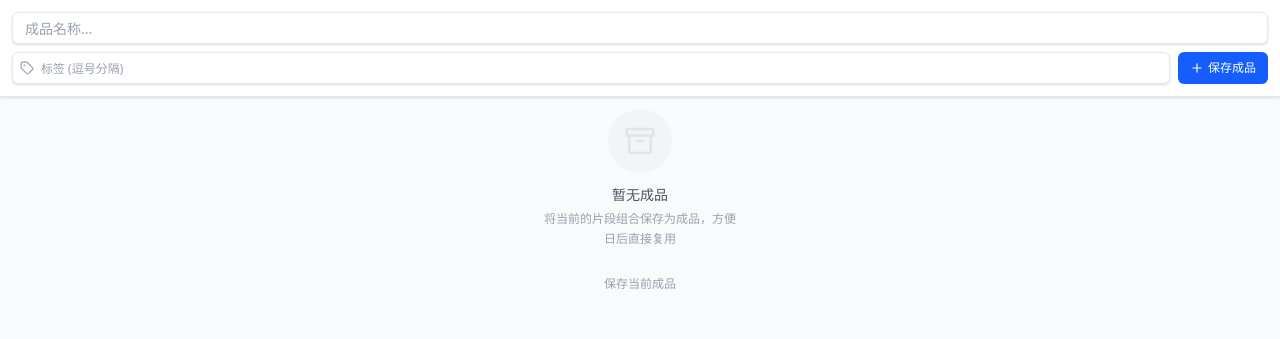
SavedPromptsPanel › prevents renaming to a duplicate name and shows error
The image size is (1280, 339).
Step 1. Type "Prompt A" into the field with placeholder "成品名称..." → point(640, 28), box [12,12,1268,44]
Step 2. Click the button with test id "saved-prompts-save" → point(1223, 68), box [1178,52,1268,84]
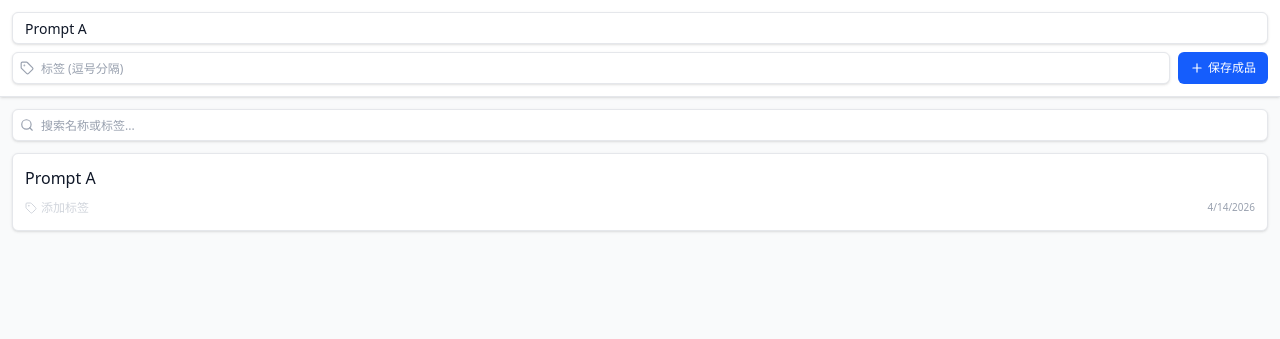
Step 3. Replace the text in the field with placeholder "成品名称..." with "Prompt B" → point(640, 28), box [12,12,1268,44]
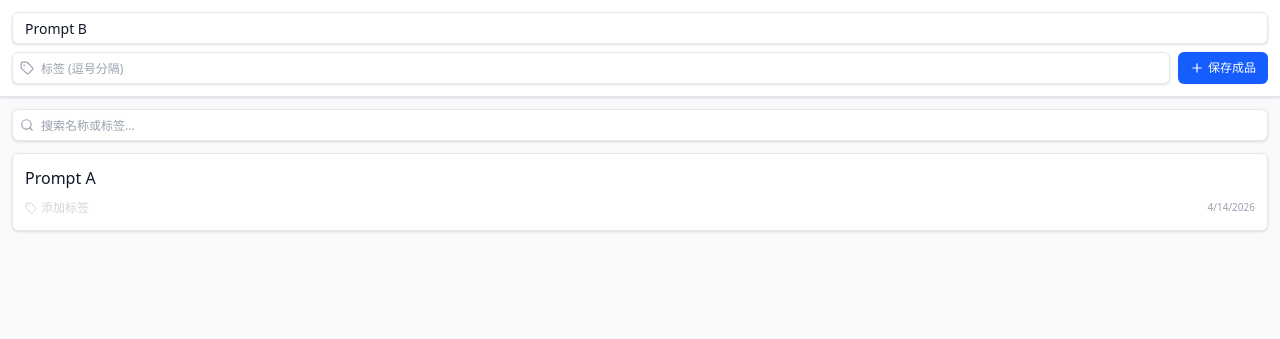
Step 4. Click the button with test id "saved-prompts-save" → point(1223, 68), box [1178,52,1268,84]
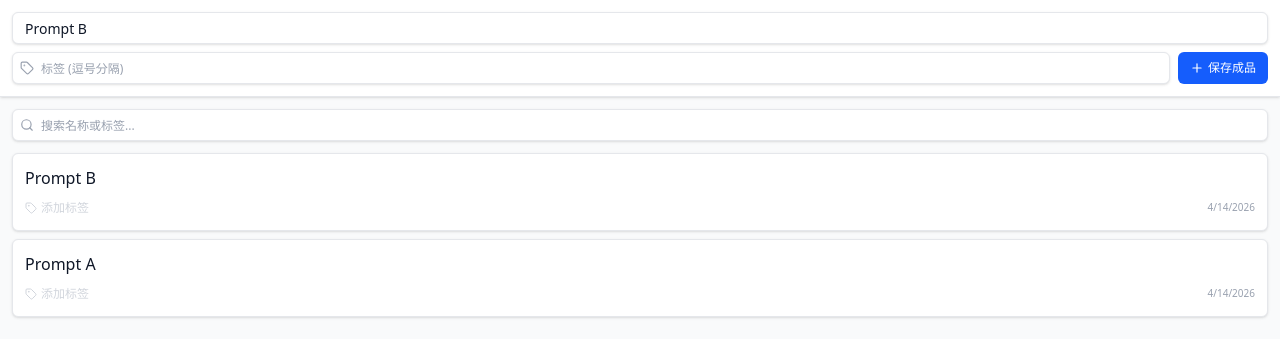
Step 5. Click the button "Prompt A" → point(60, 264), box [25,252,1167,276]
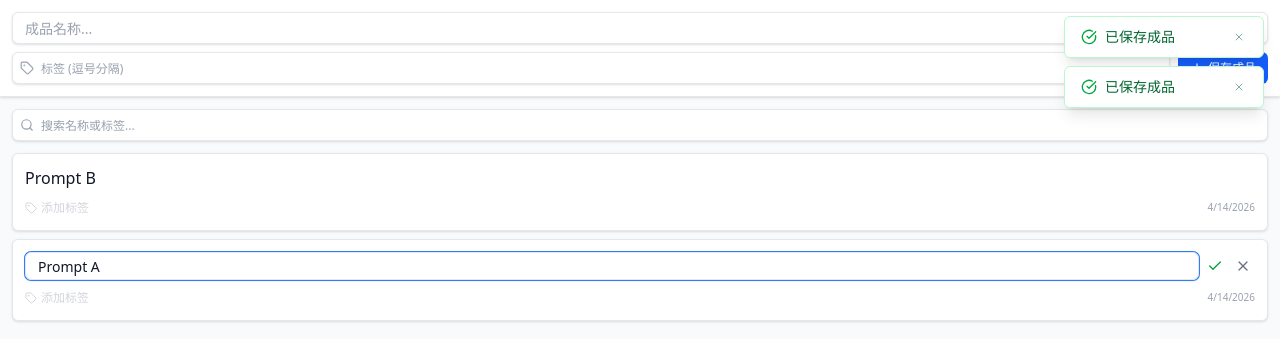
Step 6. Replace the text in the field with placeholder "输入名称" with "Prompt B" → point(612, 266), box [25,252,1199,280]
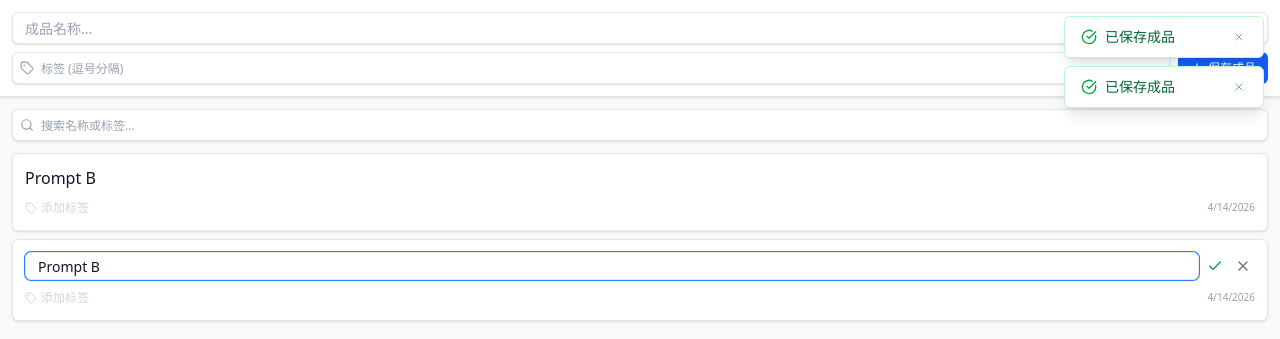
Step 7. Press Enter in the field with placeholder "输入名称", box [25,252,1199,280]
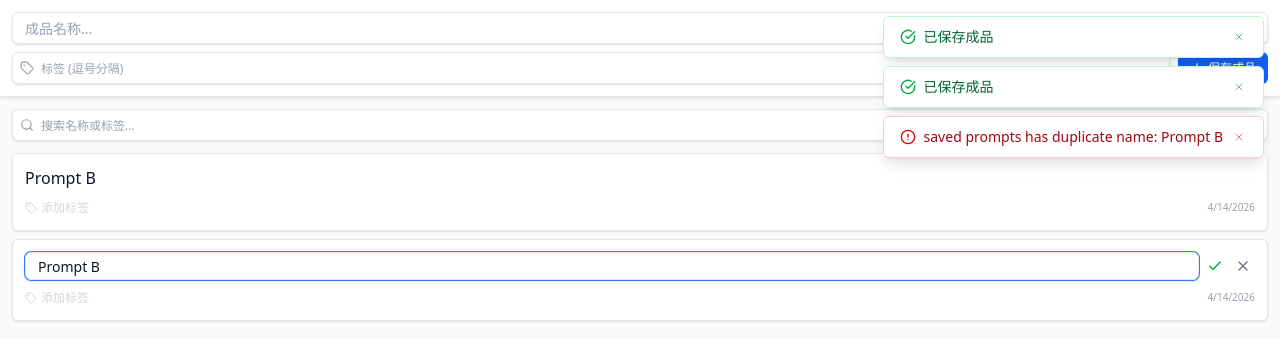
Result: the text "saved prompts has duplicate name: Prompt B" is shown at [924,127,1223,147]
